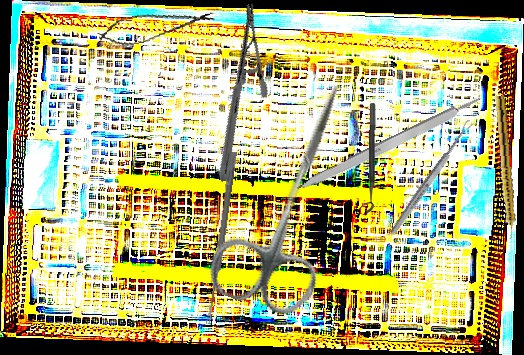Fixation Ring: (359, 102, 376, 215)
Handpiece: (492, 95, 518, 240)
Iris Scissors: (201, 66, 384, 324)
Micro Scissor: (95, 0, 217, 52)
Needle Holder: (167, 2, 307, 183)
Scalpel Handle: (294, 93, 486, 197)
Surgical Spoon: (388, 118, 475, 237), (204, 151, 238, 325)
